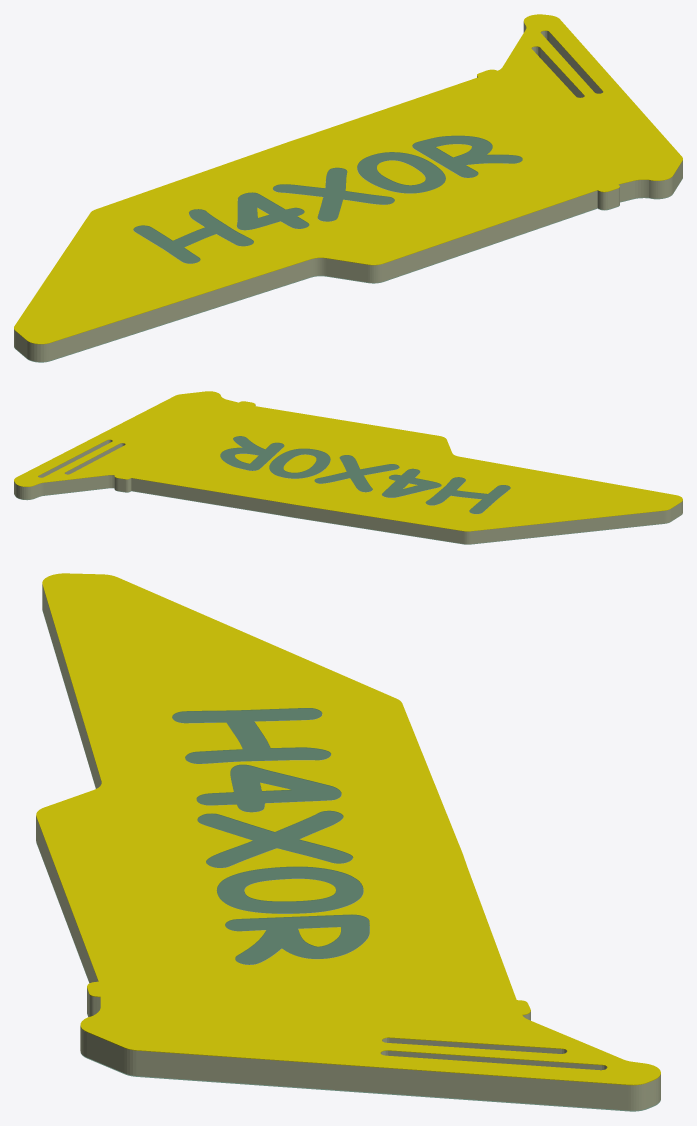
Rendered from h4x0r-badge.glb.
3 renders of one model, top to bottom at view 1: azimuth 30°, elevation 25°; view 2: azimuth 150°, elevation 25°; view 3: azimuth 270°, elevation 25°, orthographic. The views are drawn at different scales.
Parts seen in each view (by area): view 1: =>[0:1:1:2], =>[0:1:1:6], =>[0:1:1:4]; view 2: =>[0:1:1:2], =>[0:1:1:6], =>[0:1:1:4]; view 3: =>[0:1:1:2], =>[0:1:1:6], =>[0:1:1:4].
Boxes of the visible parts, x1,y1,x2,y2 form: =>[0:1:1:2]: (14, 14, 682, 344); =>[0:1:1:6]: (14, 22, 682, 361); =>[0:1:1:4]: (14, 135, 682, 362); =>[0:1:1:2]: (14, 391, 682, 531); =>[0:1:1:6]: (14, 405, 682, 544); =>[0:1:1:4]: (14, 436, 682, 544); =>[0:1:1:2]: (36, 573, 660, 1085); =>[0:1:1:6]: (36, 584, 660, 1110); =>[0:1:1:4]: (36, 610, 660, 1111).
Size of the model in its own units: 0.0653 by 0.00164 by 0.0337.
